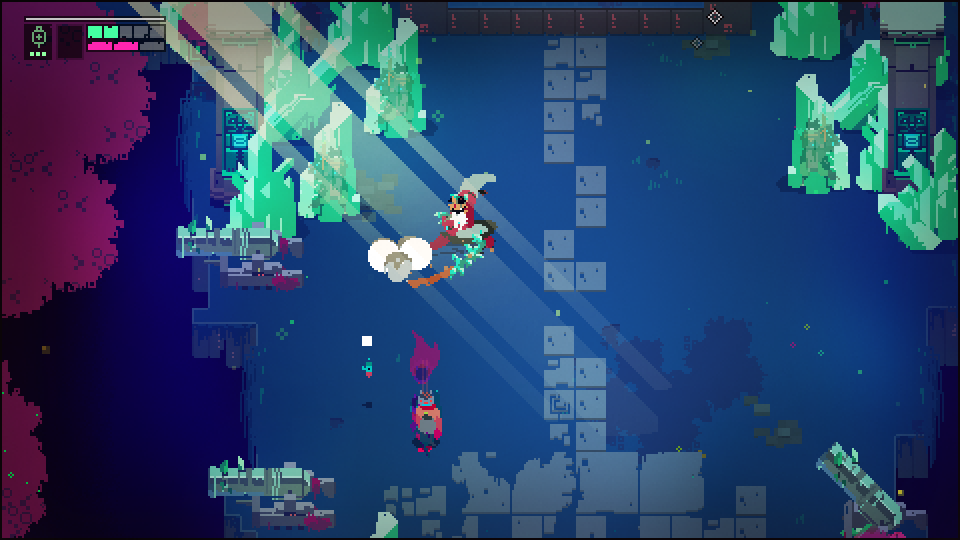hanged_man: (419, 168, 502, 281)
player: (408, 384, 445, 447)
